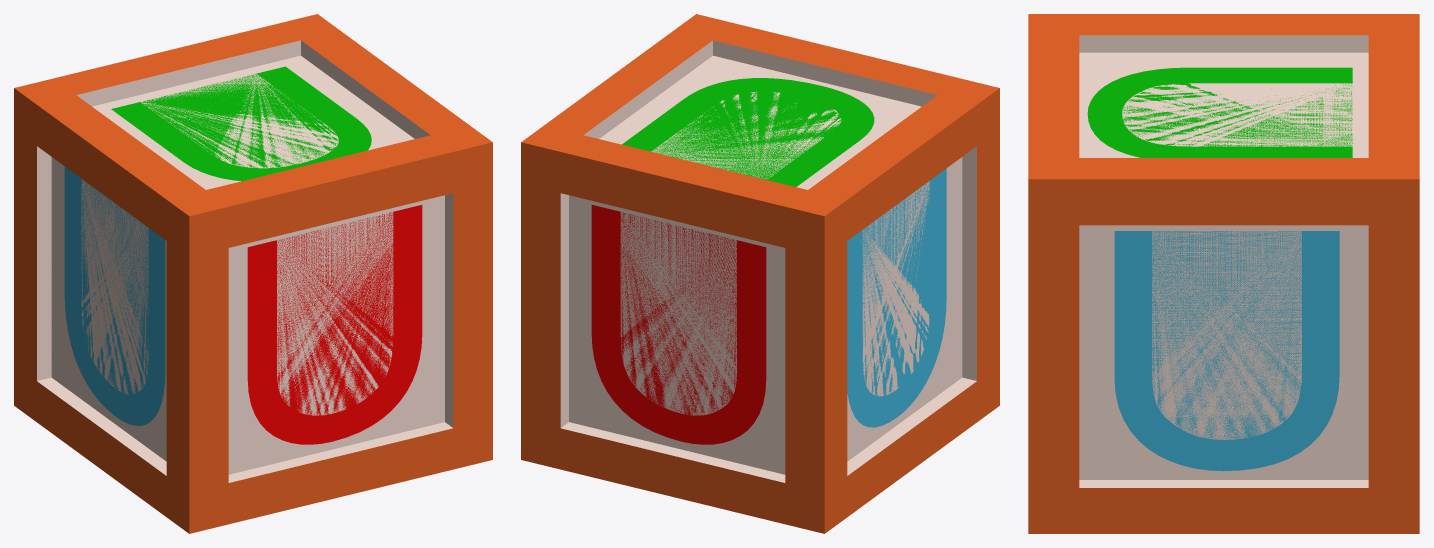
Rendered from Prop_KidsCube_U.fbx.
3 views of the same model, side by side, from view 1: azimuth 30°, elevation 25°; view 2: azimuth 150°, elevation 25°; view 3: azimuth 270°, elevation 25° (orthographic). The views are drawn at different scales.
Parts seen in each view (by area): view 1: Prop_KidsCube_U; view 2: Prop_KidsCube_U; view 3: Prop_KidsCube_U.
Part boxes in pixels (x1,y1,x2,y2): Prop_KidsCube_U: [14, 14, 492, 533]; Prop_KidsCube_U: [521, 14, 999, 533]; Prop_KidsCube_U: [1028, 14, 1419, 533].
Size of the model in its own units: 20.93 by 20.93 by 20.93.
